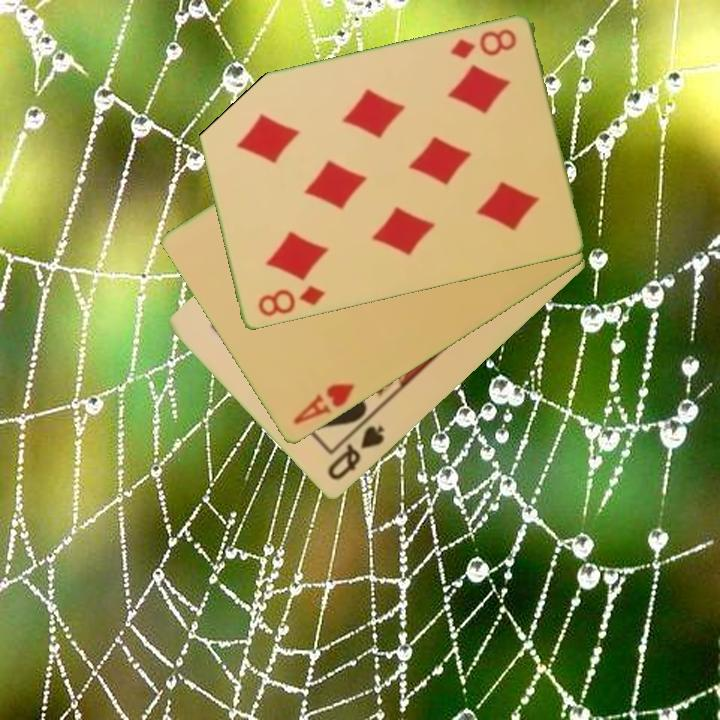8d: (254, 282, 328, 320), (446, 26, 519, 62)
Ah: (289, 380, 358, 428)
Qs: (324, 422, 388, 484)
